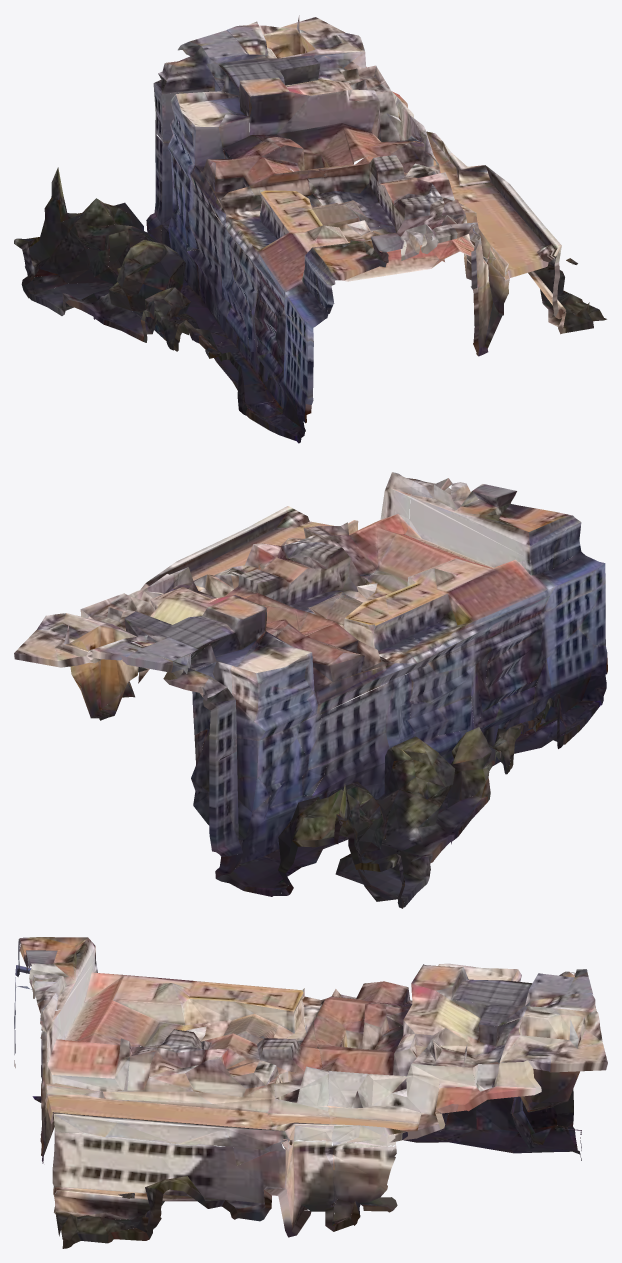
3 renders of one model, top to bottom at view 1: azimuth 30°, elevation 25°; view 2: azimuth 150°, elevation 25°; view 3: azimuth 270°, elevation 25°, orthographic. The views are drawn at different scales.
Visible parts, largest first — view 1: Mesh_0; view 2: Mesh_0; view 3: Mesh_0.
Boxes of the visible parts, x1,y1,x2,y2 form: Mesh_0: (14,15,606,443); Mesh_0: (14,472,607,908); Mesh_0: (14,937,607,1248).
Bounding box in the file's own units: 66.57 × 34.73 × 82.59.
2 materials, 2 textured.
